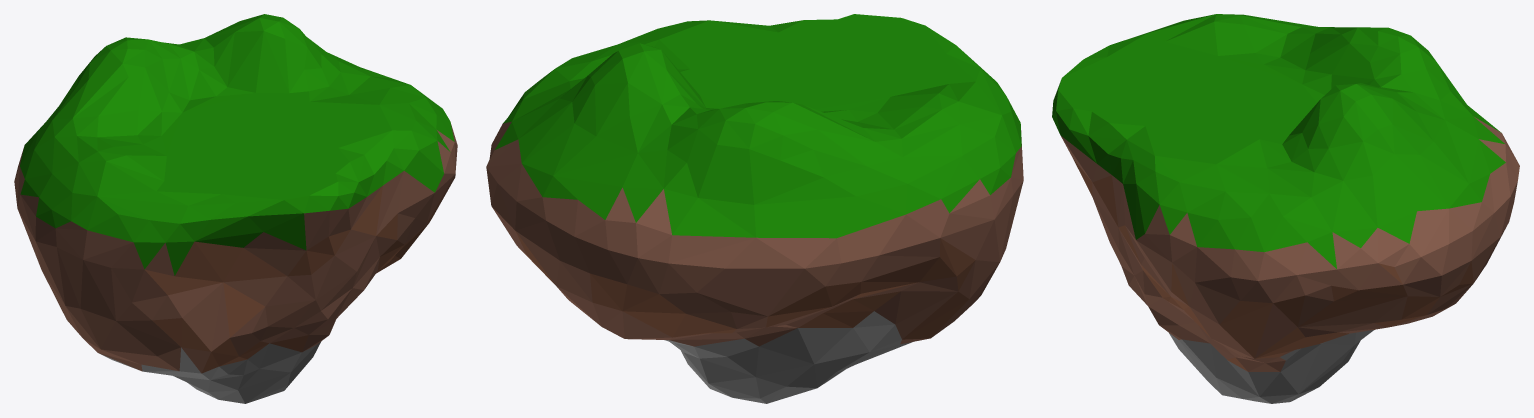
Rendered from Island_Small.fbx.
3 views of the same model, side by side, from view 1: azimuth 30°, elevation 25°; view 2: azimuth 150°, elevation 25°; view 3: azimuth 270°, elevation 25° (orthographic). The views are drawn at different scales.
Visible parts, largest first — view 1: Island_02; view 2: Island_02; view 3: Island_02.
Part boxes in pixels (x1,y1,x2,y2): Island_02: (14,14,457,403); Island_02: (486,14,1023,403); Island_02: (1052,14,1519,403).
Size of the model in its own units: 214 by 158 by 198.
